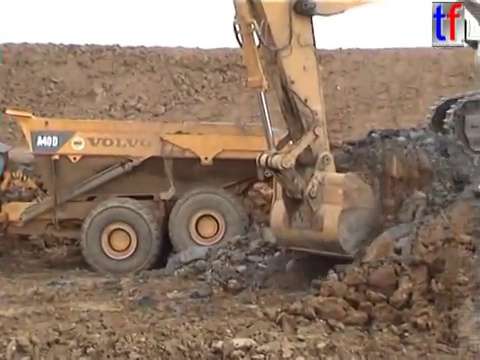excavator: (228, 1, 480, 263)
truck: (1, 105, 315, 281)
